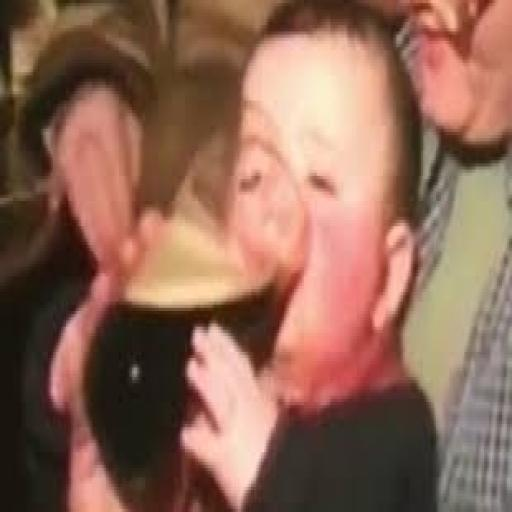drinking: (81, 207, 276, 509)
